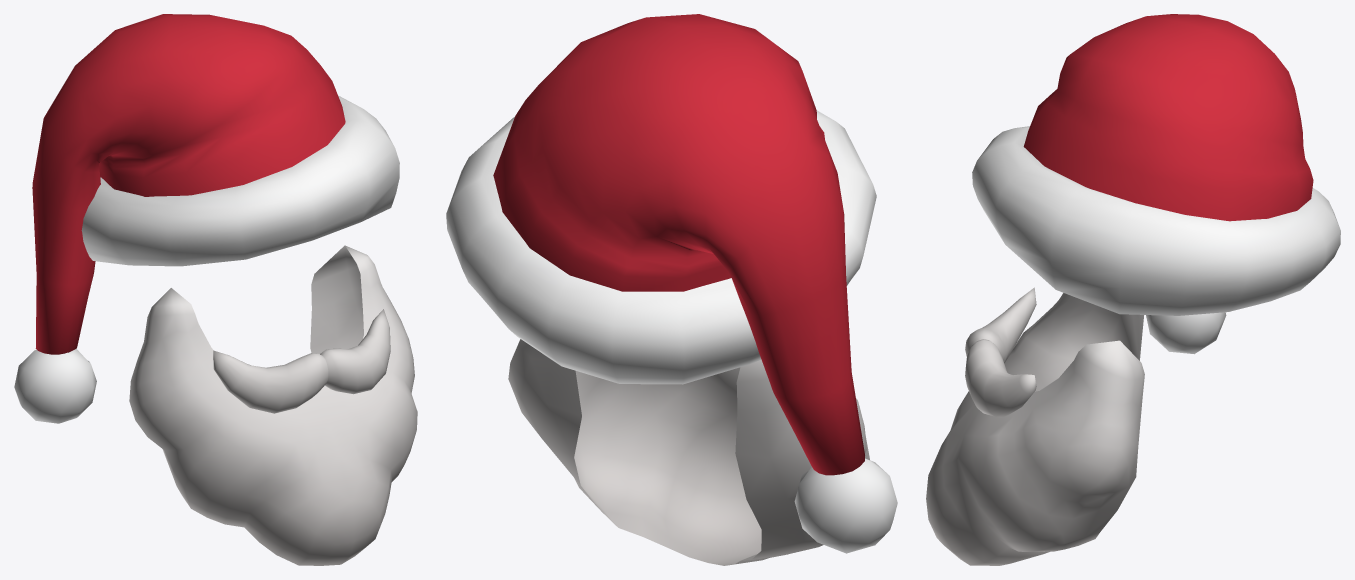
File: Reindeer.glb
3 views of the same model, side by side, from view 1: azimuth 30°, elevation 25°; view 2: azimuth 150°, elevation 25°; view 3: azimuth 270°, elevation 25° (orthographic). The views are drawn at different scales.
Visible parts, largest first — view 1: Santa_Hat_001, Santa_Beard_001, Santa_Mustache_001; view 2: Santa_Hat_001, Santa_Beard_001; view 3: Santa_Hat_001, Santa_Beard_001, Santa_Mustache_001.
Boxes of the visible parts, x1,y1,x2,y2 form: Santa_Hat_001: [14, 14, 399, 423]; Santa_Beard_001: [129, 245, 417, 565]; Santa_Mustache_001: [213, 309, 390, 413]; Santa_Hat_001: [446, 14, 897, 553]; Santa_Beard_001: [508, 339, 869, 565]; Santa_Hat_001: [972, 14, 1340, 354]; Santa_Beard_001: [926, 293, 1144, 565]; Santa_Mustache_001: [965, 287, 1036, 417].
Bounding box in the file's own units: 1.35 × 1.81 × 1.35.
Materials: 1 (1 with a texture image).
